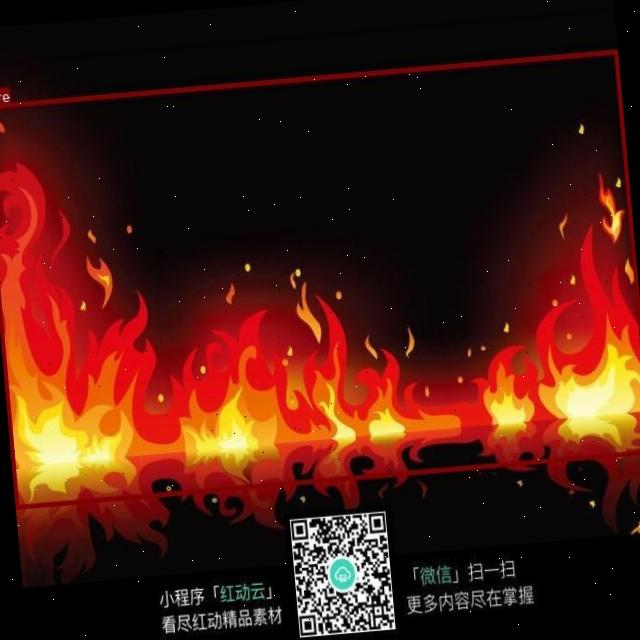fire: (0, 47, 640, 507)
